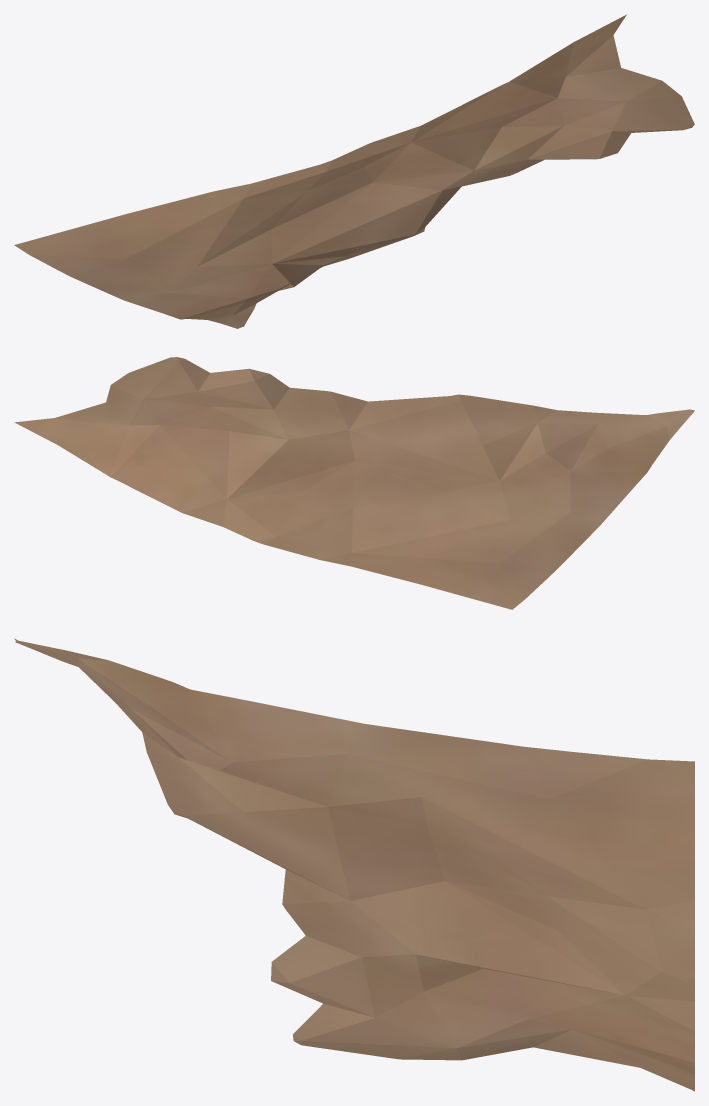
The picture shows the model from 3 angles, top to bottom: view 1: azimuth 30°, elevation 25°; view 2: azimuth 150°, elevation 25°; view 3: azimuth 270°, elevation 25°; orthographic projection. The views are drawn at different scales.
Size of the model in its own units: 0.2741 by 0.0347 by 0.174.
1 material, 1 textured.
